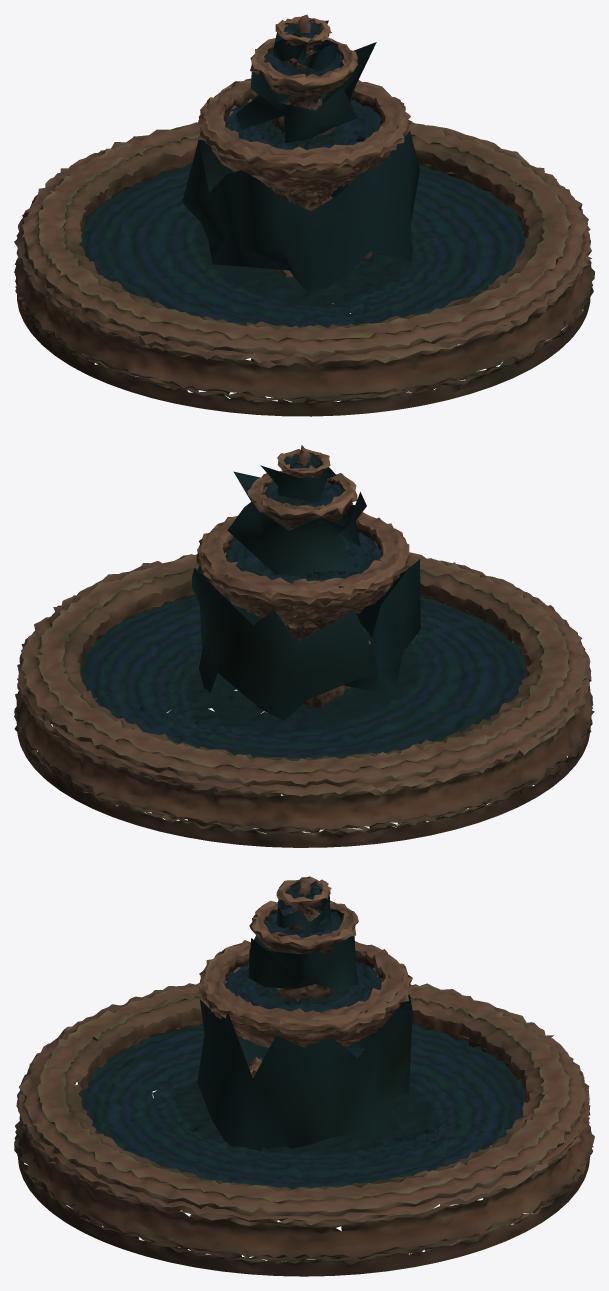
The model's file is PC_Fountain.FBX.
3 renders of one model, top to bottom at view 1: azimuth 30°, elevation 25°; view 2: azimuth 150°, elevation 25°; view 3: azimuth 270°, elevation 25°, orthographic.
Visible parts, largest first — view 1: Fountain; view 2: Fountain; view 3: Fountain.
Part boxes in pixels (box(x1,y1,x2,y2)): Fountain: box(14, 14, 594, 416); Fountain: box(14, 445, 594, 847); Fountain: box(14, 876, 594, 1276).
Size of the model in its own units: 4.13 by 2.2 by 4.14.
